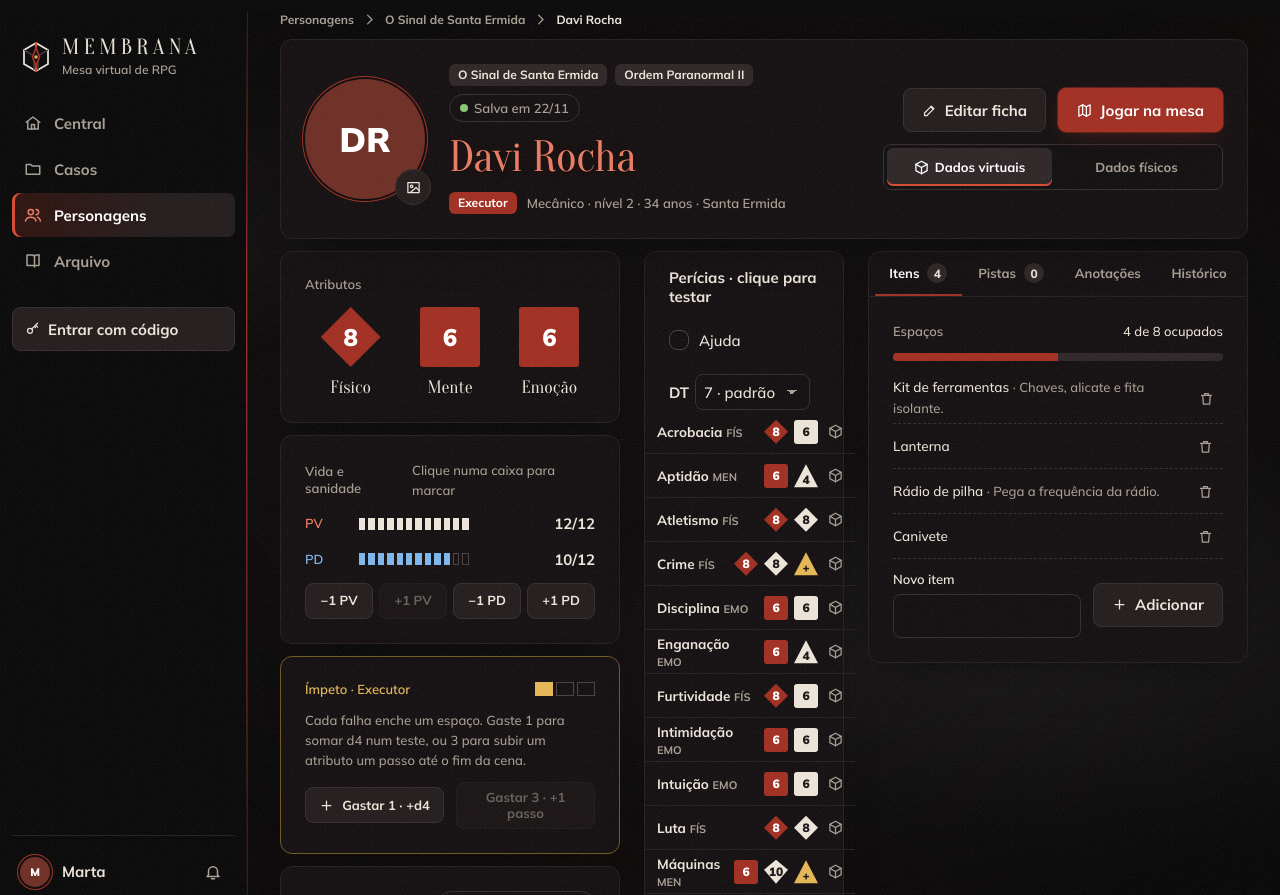
Scenario: Ficha: topo, atributos, PV/PD, Ímpeto e Gambiarra (#45) › clicar numa caixa marca até ela; na última marcada, desmarca só ela
Expected: the heading "Davi Rocha" is shown, [449, 132, 636, 182]
Click the button named "PD, caixa 4": (390, 559) [387, 553, 394, 565]
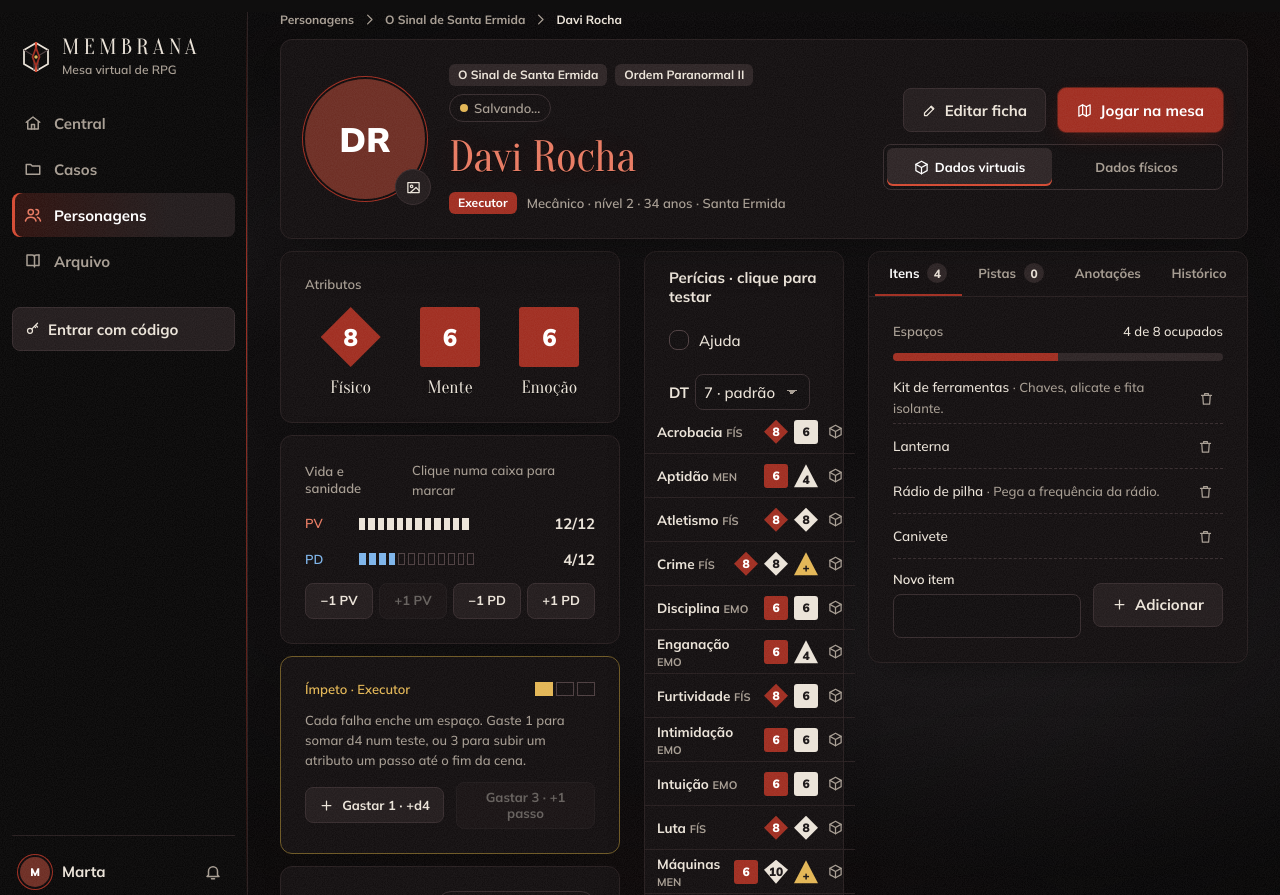
Now the element named "PD: 4 de 12" is shown, box [359, 553, 474, 565]
Click the button named "PD, caixa 4": (392, 559) [389, 553, 396, 565]
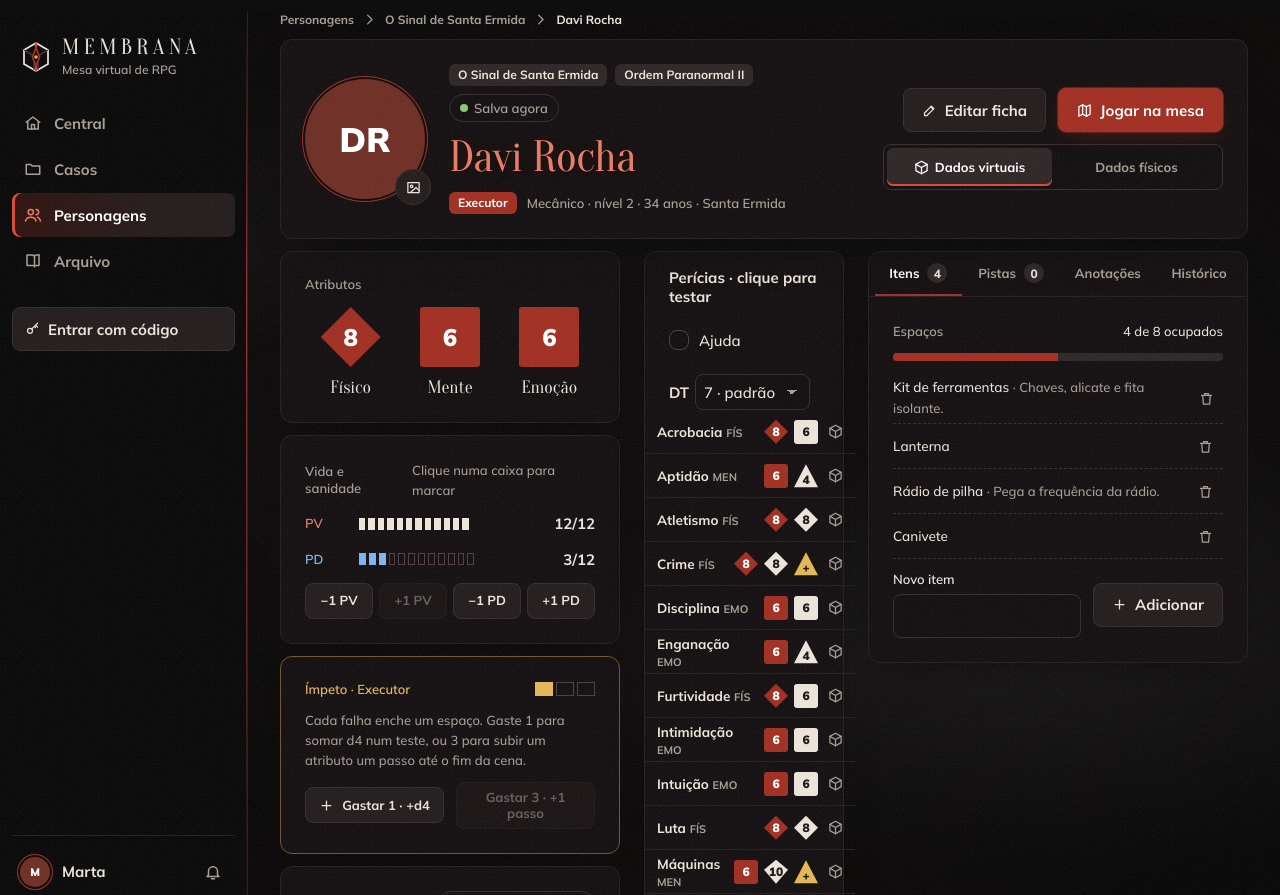
Expected: the button with aria-label "Recuperar 1 PV" is disabled, [379, 583, 447, 619]
Now the element named "PD: 3 de 12" is shown, box [359, 553, 474, 565]
